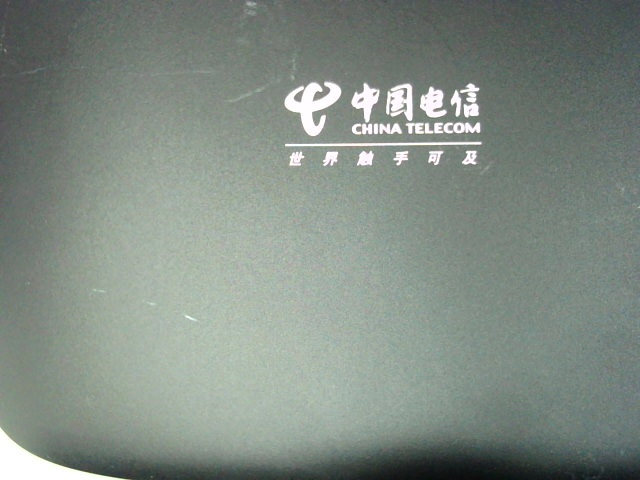AB_ChinaTelecom: (275, 79, 490, 168)
